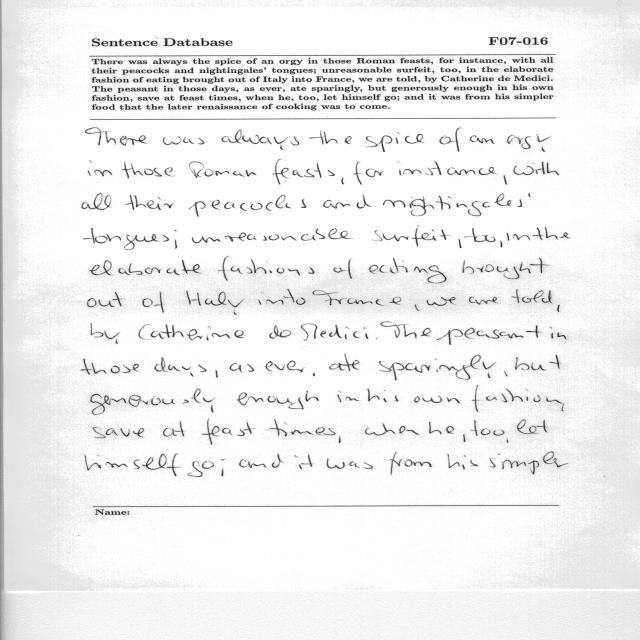word: (383, 193, 530, 216), (91, 389, 215, 414), (379, 355, 495, 380), (189, 195, 306, 217), (219, 256, 315, 281), (192, 228, 351, 243), (437, 325, 542, 345), (85, 454, 180, 476), (369, 258, 447, 284), (473, 385, 541, 412), (463, 258, 549, 279), (84, 228, 169, 249), (490, 452, 568, 474), (138, 325, 244, 341), (90, 260, 200, 275), (273, 159, 335, 184), (222, 130, 299, 150), (237, 391, 319, 409), (313, 290, 402, 306), (201, 419, 255, 444), (186, 291, 244, 314), (374, 229, 447, 247), (399, 162, 497, 175), (366, 132, 424, 152), (189, 161, 257, 178), (301, 324, 368, 341), (269, 419, 336, 436), (85, 128, 147, 146), (389, 452, 432, 475), (155, 357, 207, 376), (81, 359, 139, 375), (123, 162, 173, 178), (381, 322, 431, 338), (507, 134, 551, 152), (259, 289, 306, 305), (127, 195, 174, 210), (515, 355, 560, 370), (354, 162, 383, 185), (323, 195, 371, 208), (239, 454, 283, 468), (309, 131, 352, 145), (512, 289, 552, 304), (365, 425, 419, 436), (514, 162, 559, 175), (93, 427, 144, 438), (91, 324, 119, 344), (87, 292, 122, 307), (329, 354, 359, 371), (327, 458, 373, 469), (440, 128, 461, 152), (533, 227, 570, 240), (448, 454, 478, 470), (82, 193, 110, 210), (517, 420, 547, 435), (143, 292, 164, 313), (265, 361, 303, 372), (188, 461, 214, 477), (467, 228, 496, 242), (368, 389, 399, 402), (414, 396, 460, 404), (333, 260, 352, 279), (88, 161, 112, 176), (470, 420, 491, 436), (163, 137, 204, 145), (163, 422, 184, 437), (429, 422, 454, 434), (269, 326, 291, 339), (546, 397, 564, 412), (427, 297, 456, 306), (337, 391, 359, 402), (295, 455, 312, 469), (469, 297, 498, 305), (470, 135, 495, 144), (550, 327, 567, 340), (230, 363, 254, 372), (506, 233, 530, 241), (494, 430, 509, 442), (221, 459, 225, 476), (459, 237, 465, 248), (504, 175, 508, 185), (175, 230, 177, 249), (415, 304, 420, 311), (463, 434, 466, 442), (342, 178, 345, 185), (557, 305, 560, 312), (504, 371, 508, 376), (500, 241, 502, 248), (216, 371, 218, 378), (313, 373, 315, 377), (339, 436, 340, 443), (376, 338, 378, 339)
